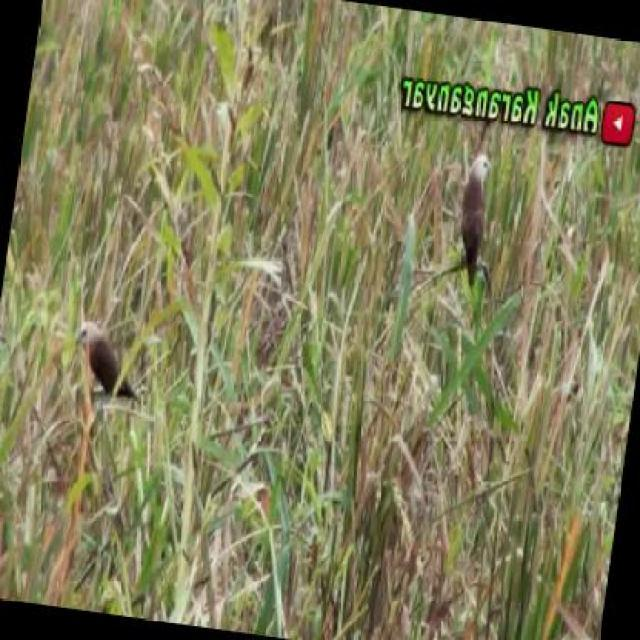Bird: (70, 316, 146, 415), (455, 146, 495, 286)
